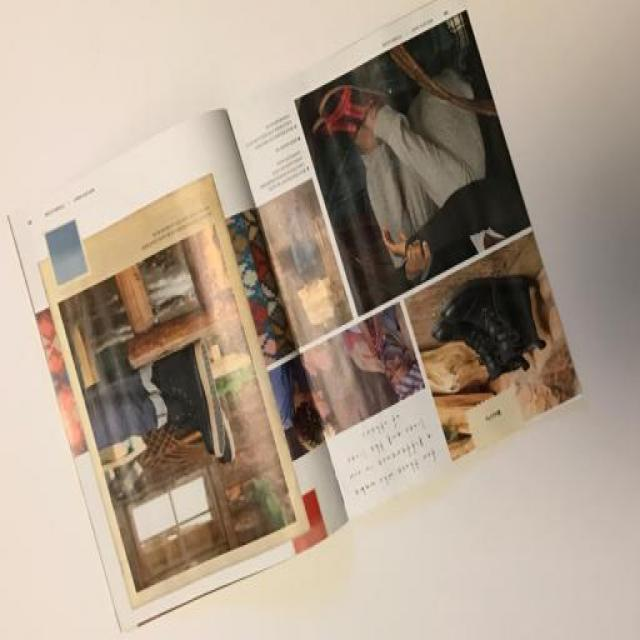paper: (4, 54, 595, 593)
